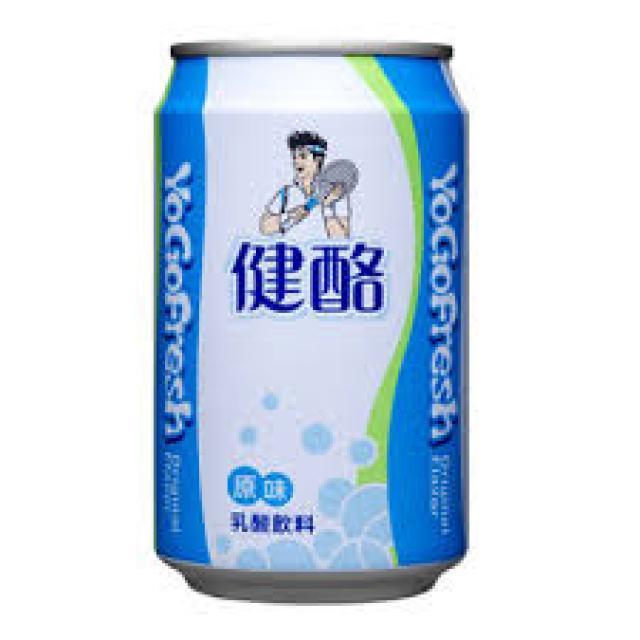recyclable: (152, 40, 472, 604)
